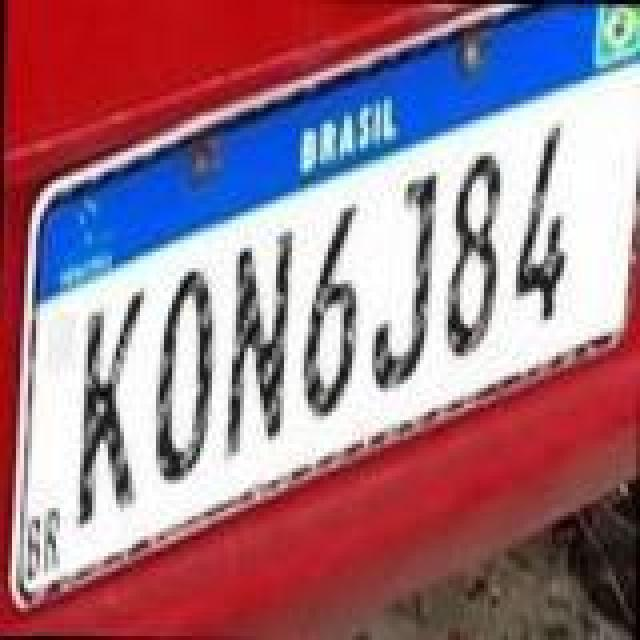4: (510, 118, 570, 322)
6: (296, 200, 360, 424)
8: (442, 146, 502, 358)
J: (370, 166, 438, 394)
K: (72, 286, 144, 530)
N: (220, 226, 292, 462)
O: (152, 264, 216, 488)
